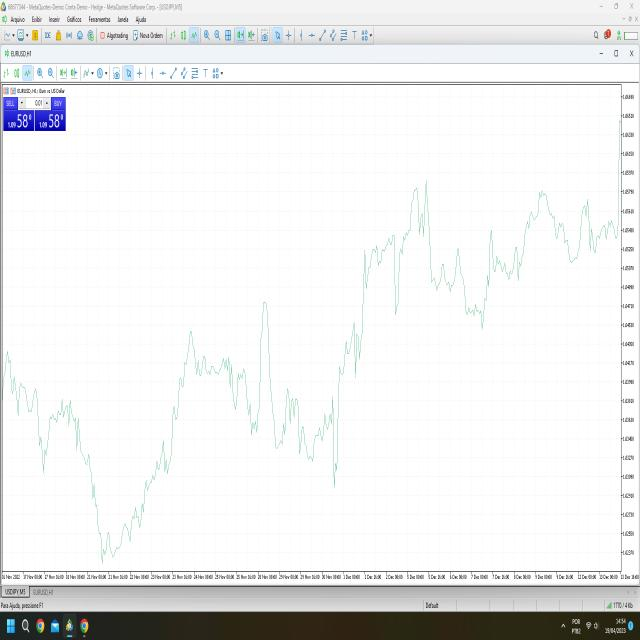bandeira_alta: (42, 375, 81, 493)
